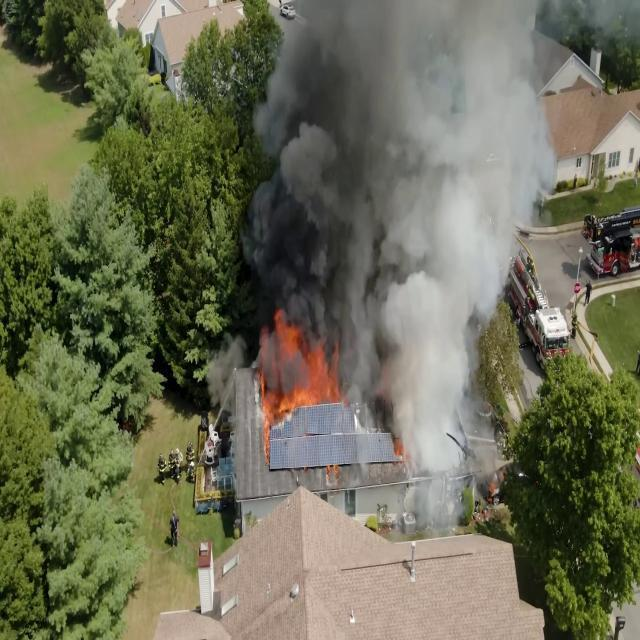Fire: (246, 322, 340, 435)
Smoke: (255, 0, 385, 276), (391, 7, 489, 266), (385, 272, 459, 464)
